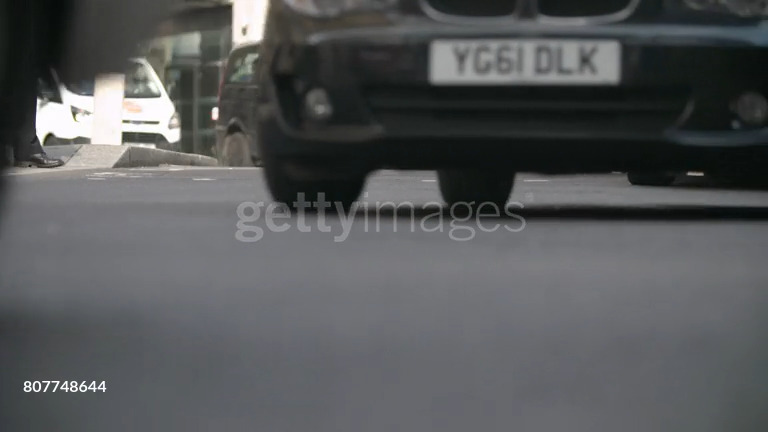car number: (428, 37, 621, 83)
